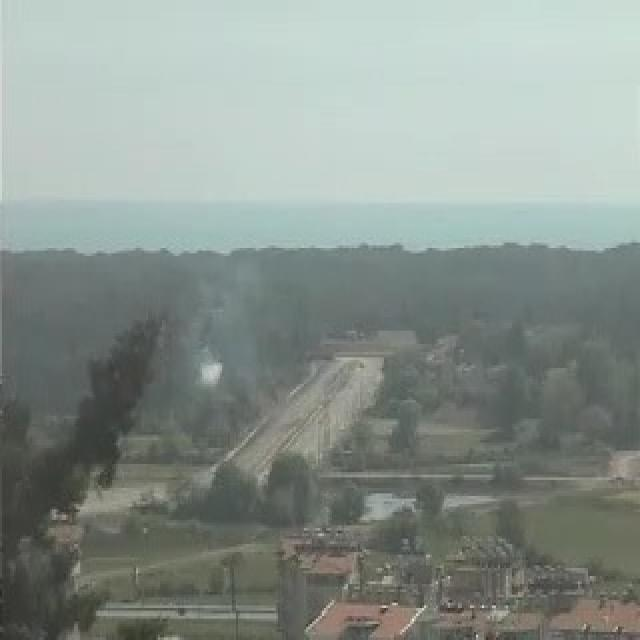smoke: (180, 332, 239, 399)
